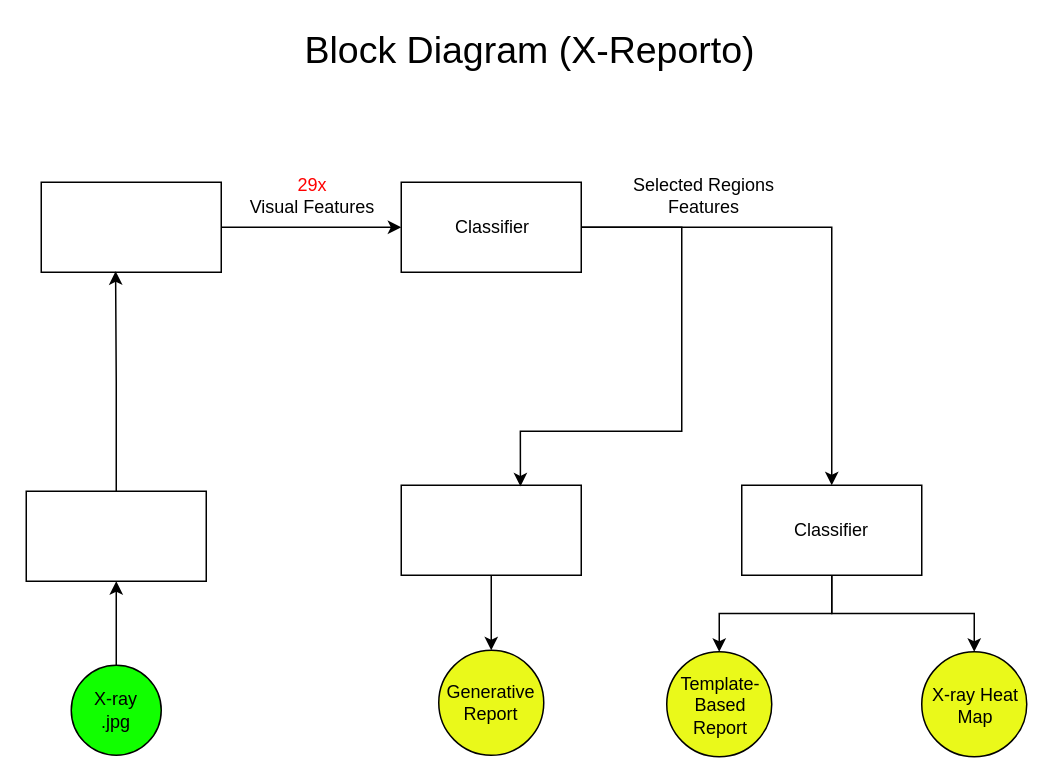
The diagram is 1053 pixels wide and 783 high, and some of its shapes have lost their labels. The centre of each missing label's shape, as x and y in pixels:
Denoising: the point at 115,535
Language Model: the point at 490,529
Object Detection: the point at 130,226
